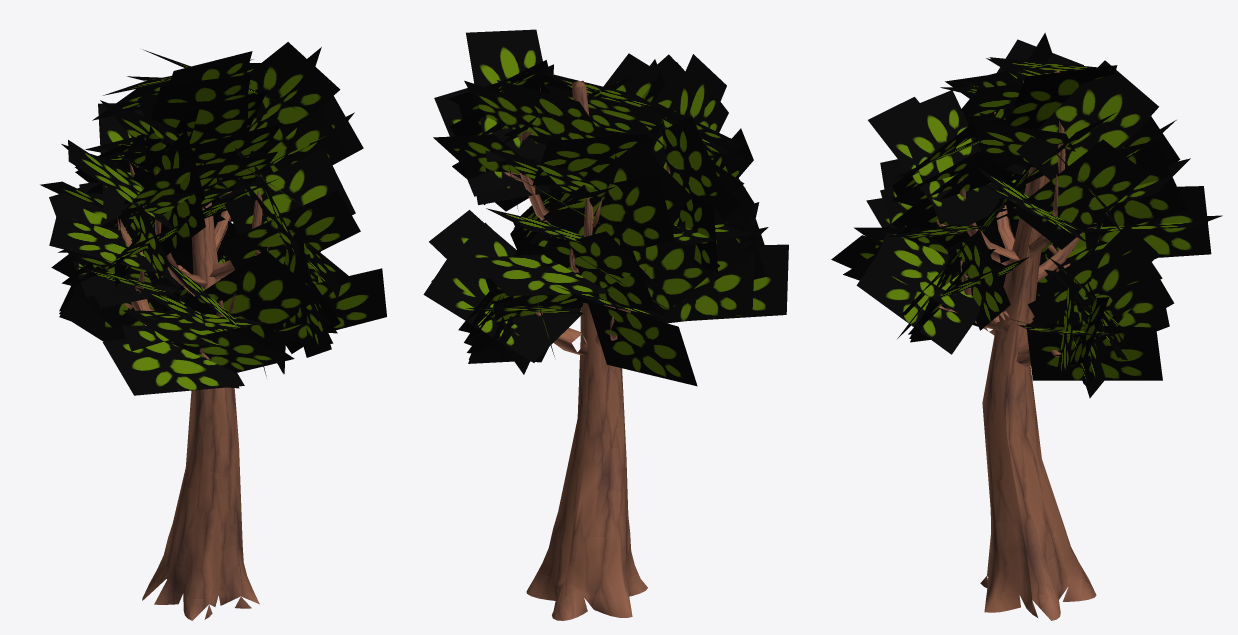
File: boom_loof.glb
3 renders of one model, left to right at view 1: azimuth 30°, elevation 25°; view 2: azimuth 150°, elevation 25°; view 3: azimuth 270°, elevation 25°, orthographic. The views are drawn at different scales.
Bounding box in the file's own units: 3.51 × 6 × 3.82.
2 materials, 2 textured.
